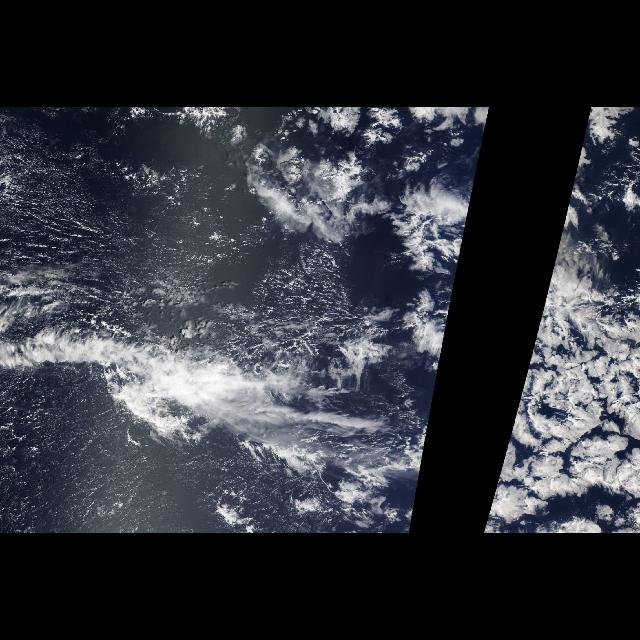Flower: (506, 294, 640, 518)
Sugar: (0, 121, 242, 306), (4, 374, 210, 530), (248, 264, 346, 354)
